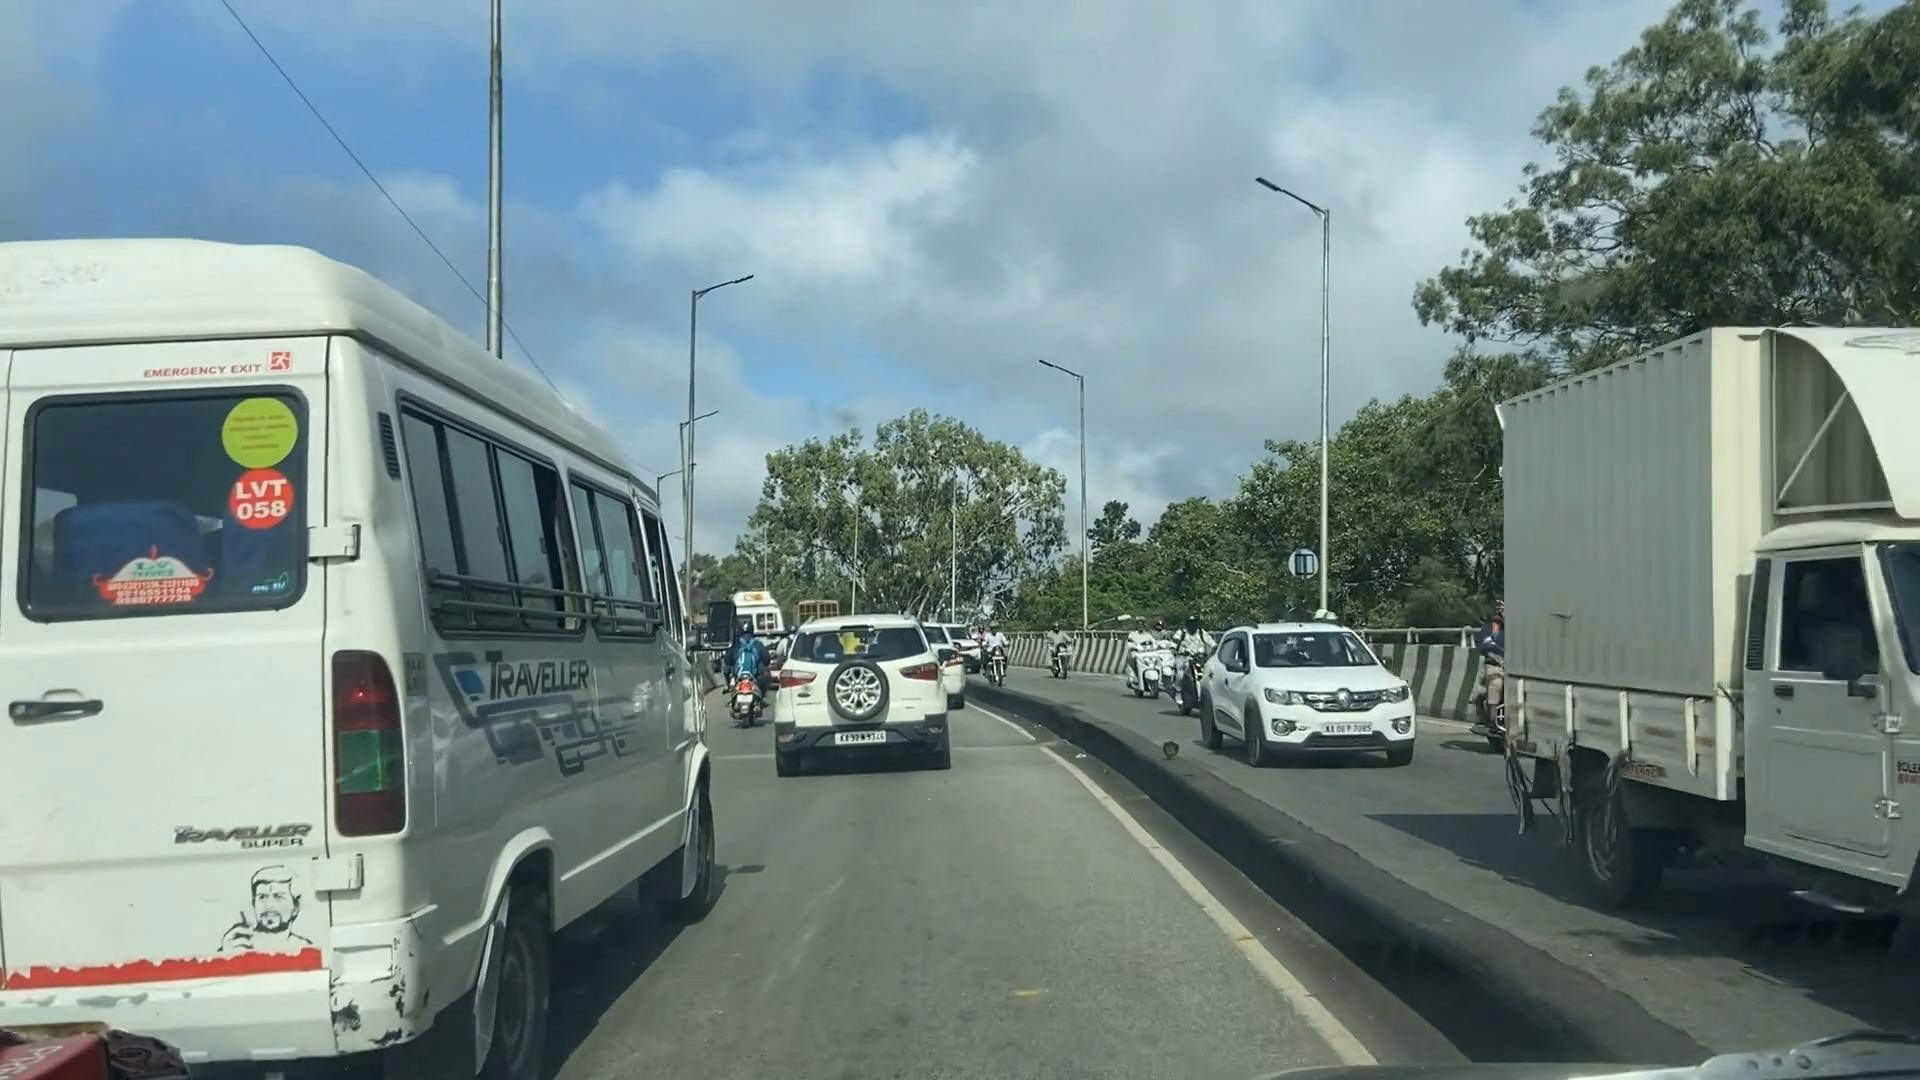HMV: (4, 249, 715, 1064)
LMV: (778, 615, 948, 754), (735, 616, 770, 707)
SpeedBump: (947, 740, 1050, 764), (698, 742, 777, 771)
